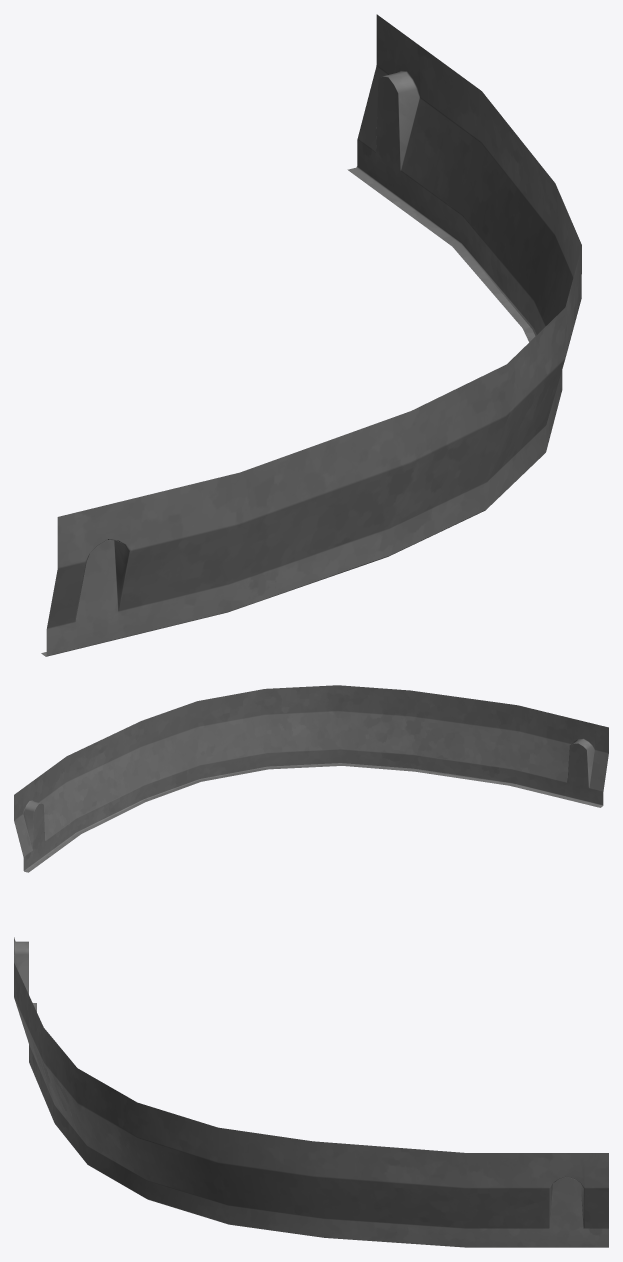
The model's file is TrimV3_OutsideCurved.fbx.
The picture shows the model from 3 angles, top to bottom: view 1: azimuth 30°, elevation 25°; view 2: azimuth 150°, elevation 25°; view 3: azimuth 270°, elevation 25°; orthographic projection. The views are drawn at different scales.
Visible parts, largest first — view 1: TrimV3_OutsideCurved; view 2: TrimV3_OutsideCurved; view 3: TrimV3_OutsideCurved.
Part boxes in pixels (bbox=[...]): TrimV3_OutsideCurved: bbox=[41, 14, 581, 656]; TrimV3_OutsideCurved: bbox=[14, 685, 608, 872]; TrimV3_OutsideCurved: bbox=[14, 937, 608, 1247].
Size of the model in its own units: 531 by 102 by 531.
Materials: 1 (1 with a texture image).
